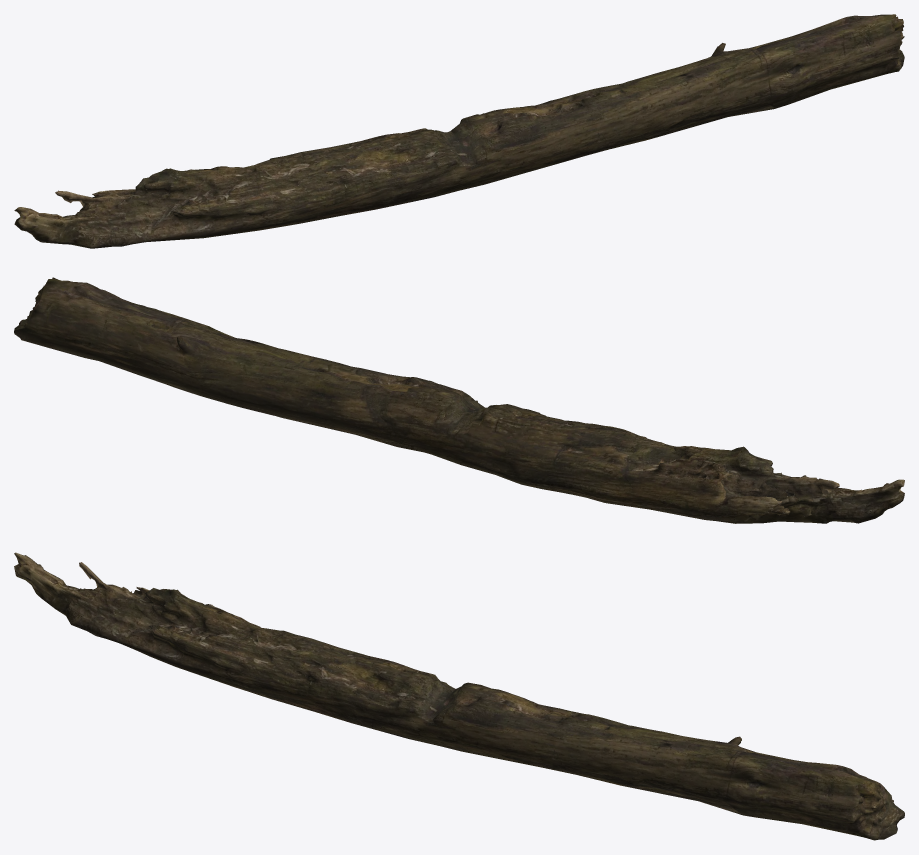
File: dead-tree-trunk.glb
3 views of the same model, one above another, from view 1: azimuth 30°, elevation 25°; view 2: azimuth 150°, elevation 25°; view 3: azimuth 330°, elevation 25° (orthographic).
Visible parts, largest first — view 1: dead_tree_trunk; view 2: dead_tree_trunk; view 3: dead_tree_trunk.
Boxes of the visible parts, box(x1,y1,x2,y2) form: dead_tree_trunk: box(14, 14, 904, 248); dead_tree_trunk: box(14, 277, 904, 523); dead_tree_trunk: box(14, 552, 904, 840).
Bounding box in the file's own units: 3.05 × 0.2898 × 0.2771.
Materials: 1 (1 with a texture image).
